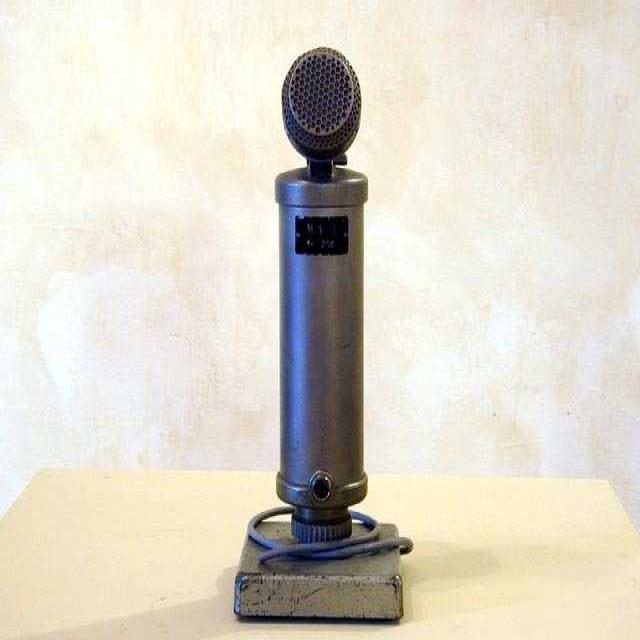microphone: (272, 46, 370, 526)
